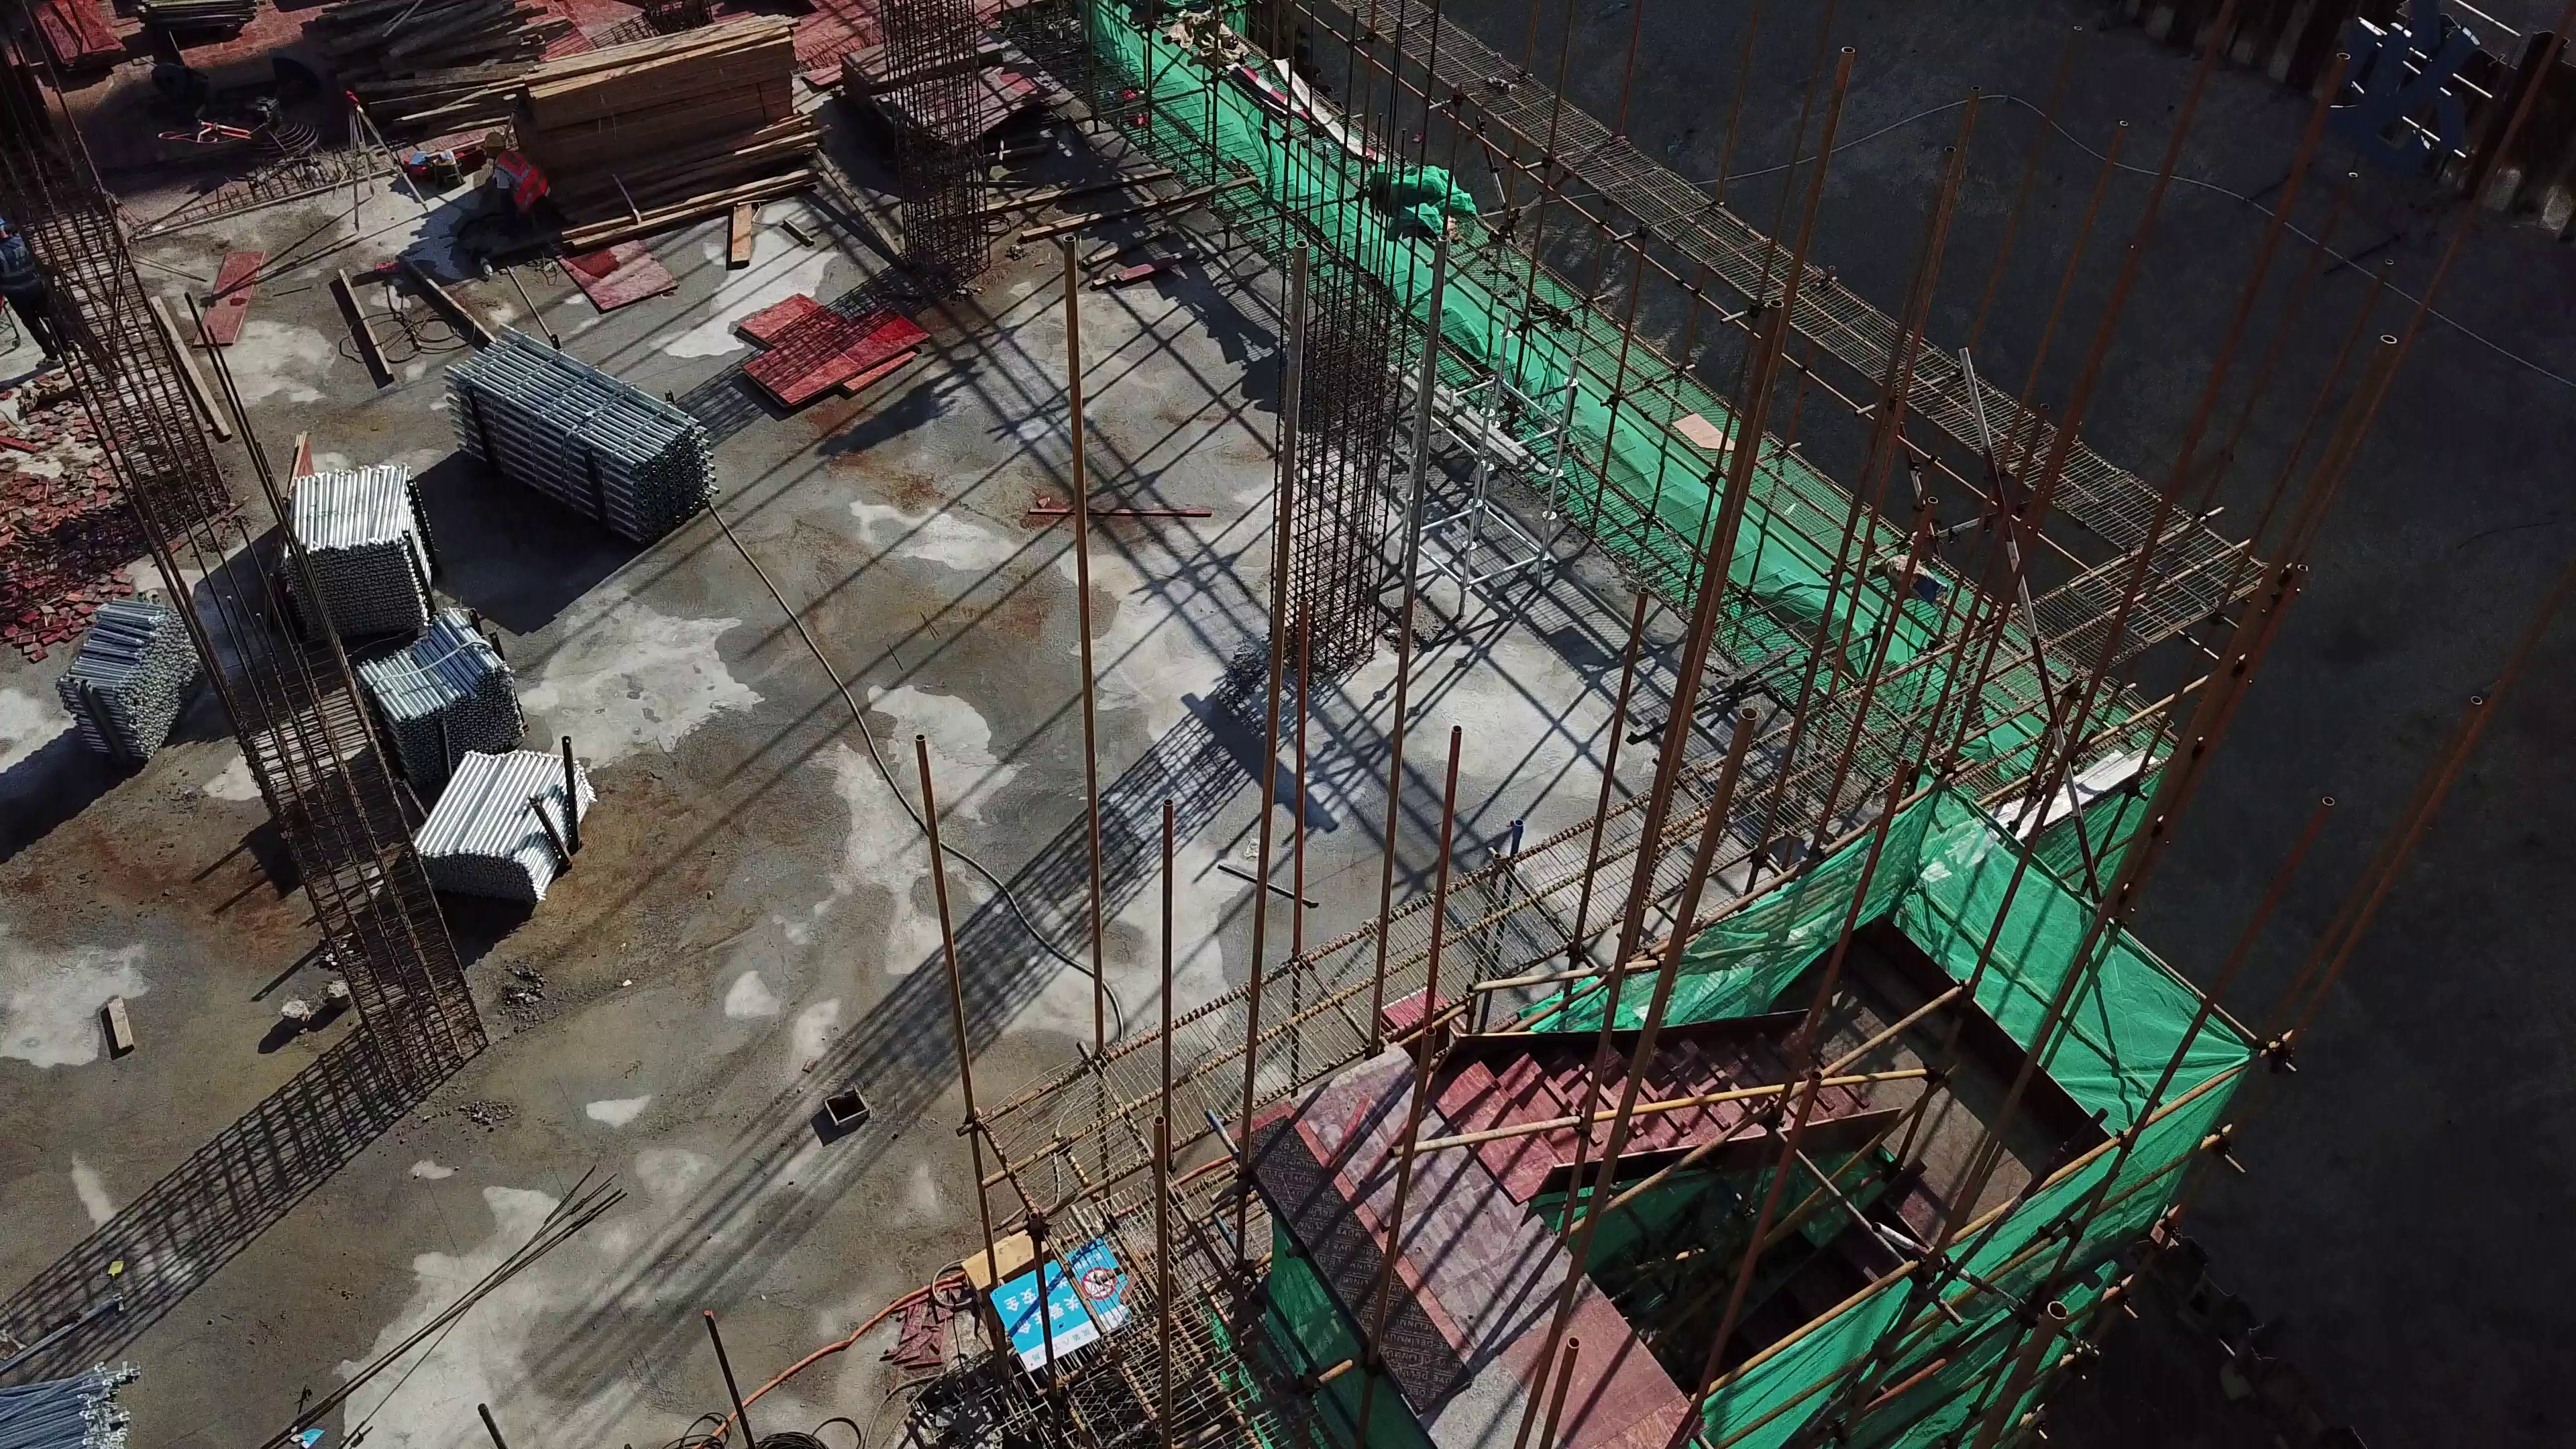board: (729, 285, 936, 414)
scaffold: (441, 308, 731, 540), (409, 745, 603, 906), (347, 605, 525, 771), (276, 462, 439, 633), (57, 589, 211, 763), (9, 1357, 145, 1449)
wood: (502, 18, 824, 223)
